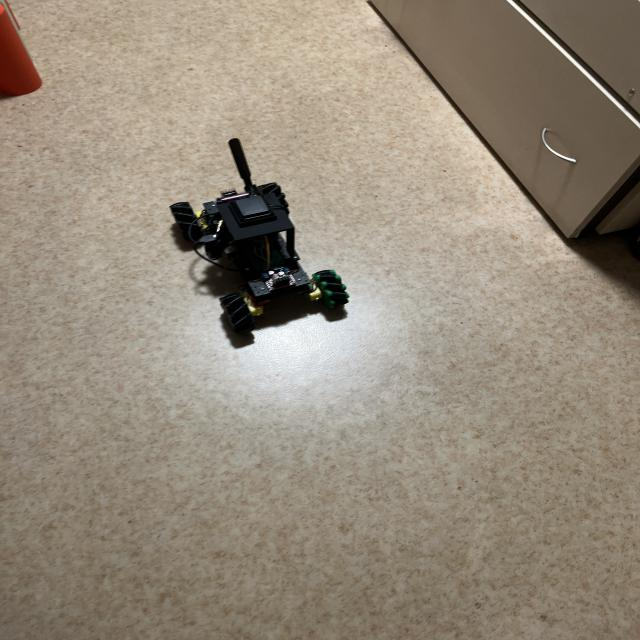robot: (171, 138, 349, 332)
